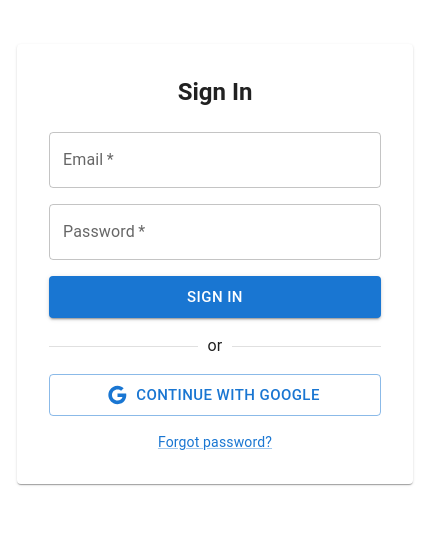
LoginPage › shows a Google OAuth error without navigating
Click the button "Continue with Google": click(215, 395) left=49, top=374, right=381, bottom=416
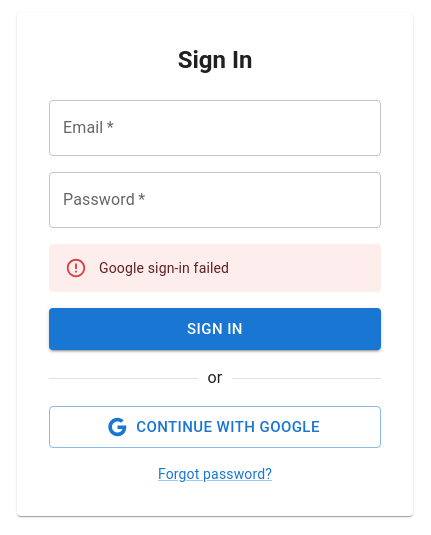
Result: the text "Google sign-in failed" is shown at left=99, top=260, right=229, bottom=276
